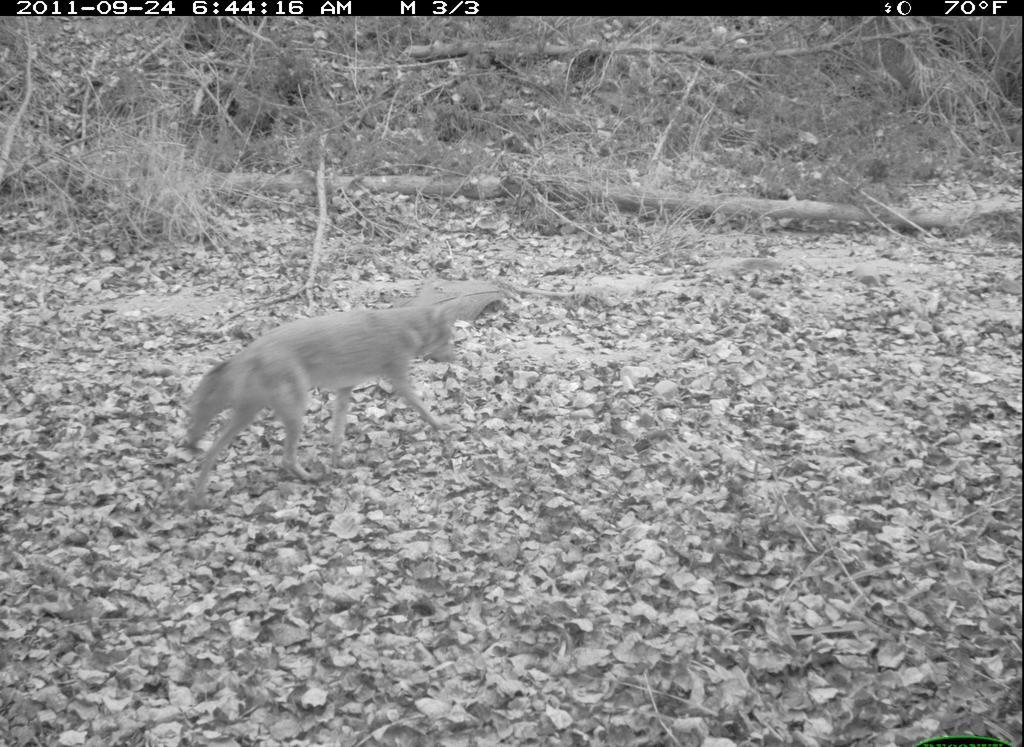coyote: (164, 276, 479, 490)
